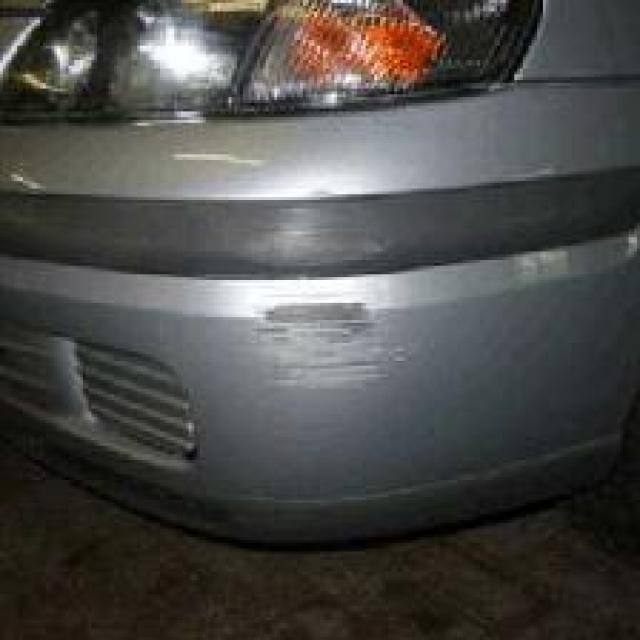damaged: (252, 286, 412, 406)
